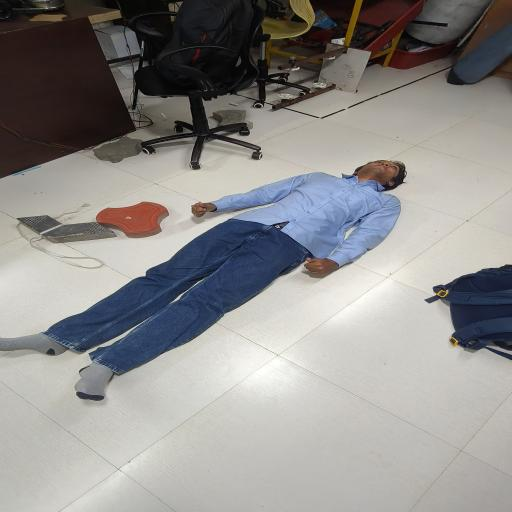survivor: (0, 160, 409, 401)
